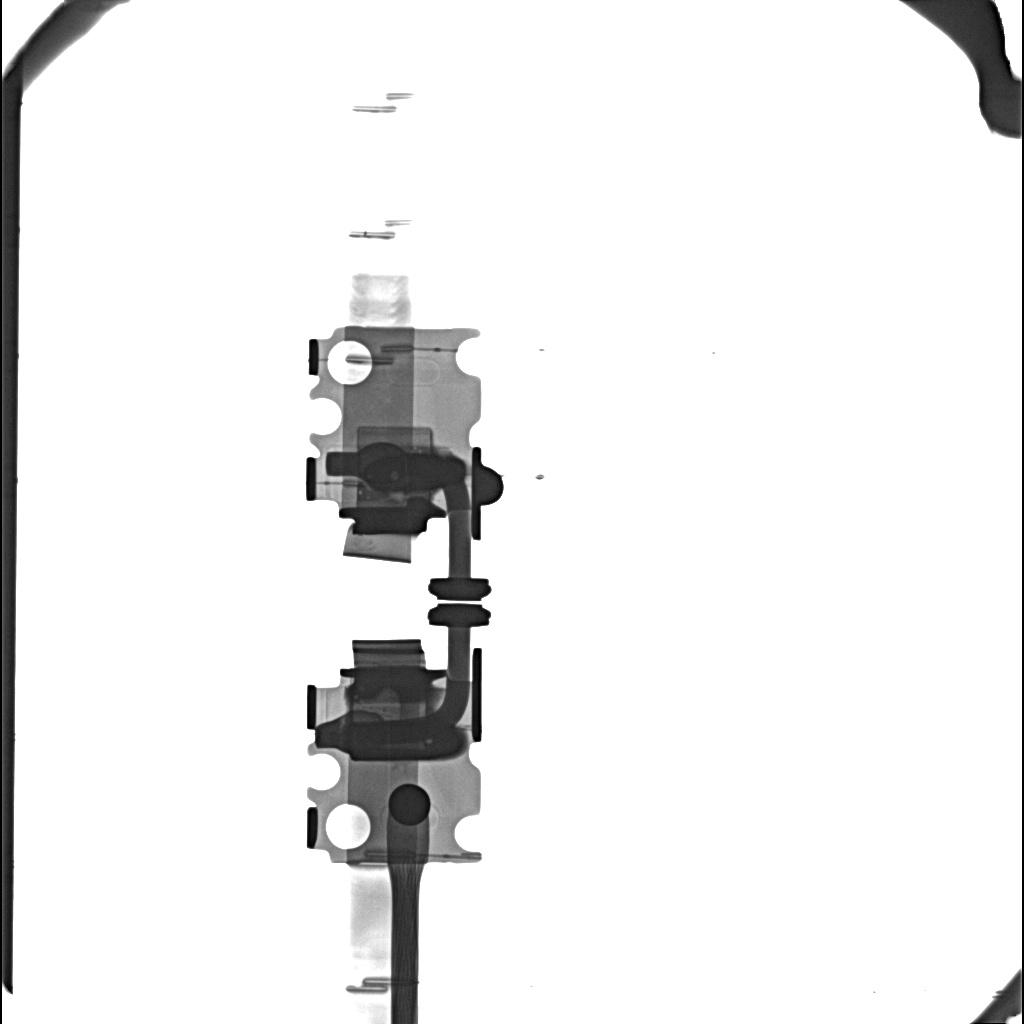defect: (347, 720, 463, 760), (367, 454, 464, 490), (357, 426, 432, 447), (357, 687, 401, 720)
